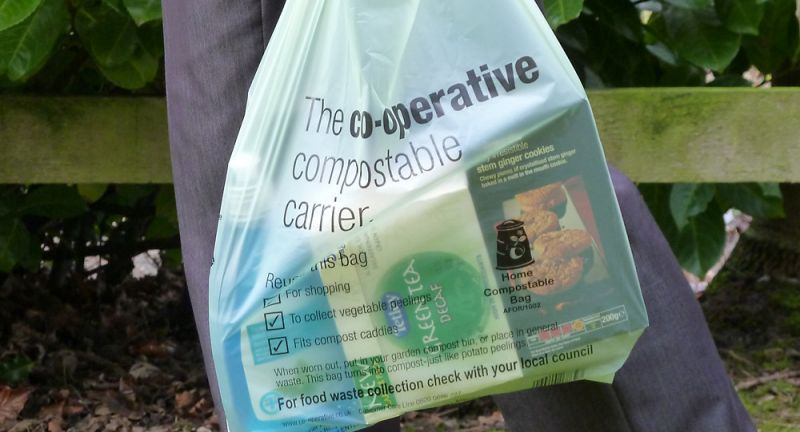plastic_bagwdw: (166, 1, 700, 432)
